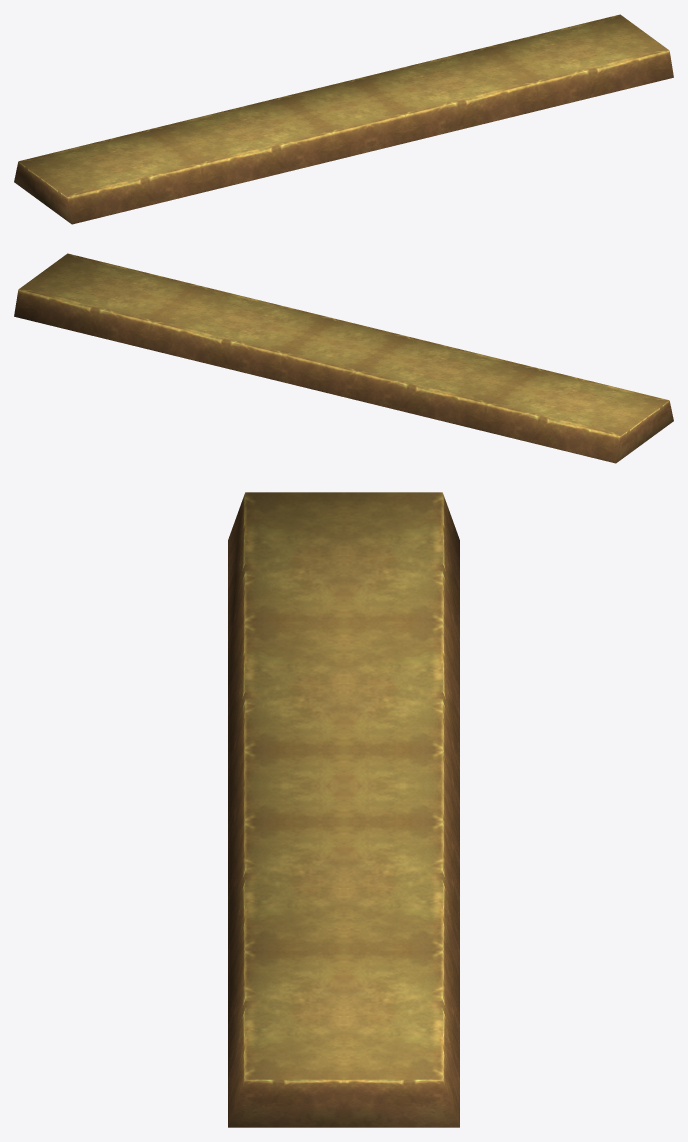
Rendered from G_hulan002.fbx.
3 views of the same model, one above another, from view 1: azimuth 30°, elevation 25°; view 2: azimuth 150°, elevation 25°; view 3: azimuth 270°, elevation 25° (orthographic). The views are drawn at different scales.
Visible parts, largest first — view 1: G_hulan002; view 2: G_hulan002; view 3: G_hulan002.
Part boxes in pixels (left/top/right/bottom): G_hulan002: left=14, top=14, right=673, bottom=224; G_hulan002: left=14, top=253, right=673, bottom=463; G_hulan002: left=228, top=492, right=459, bottom=1127.
Size of the model in its own units: 371 by 14.12 by 61.89.
